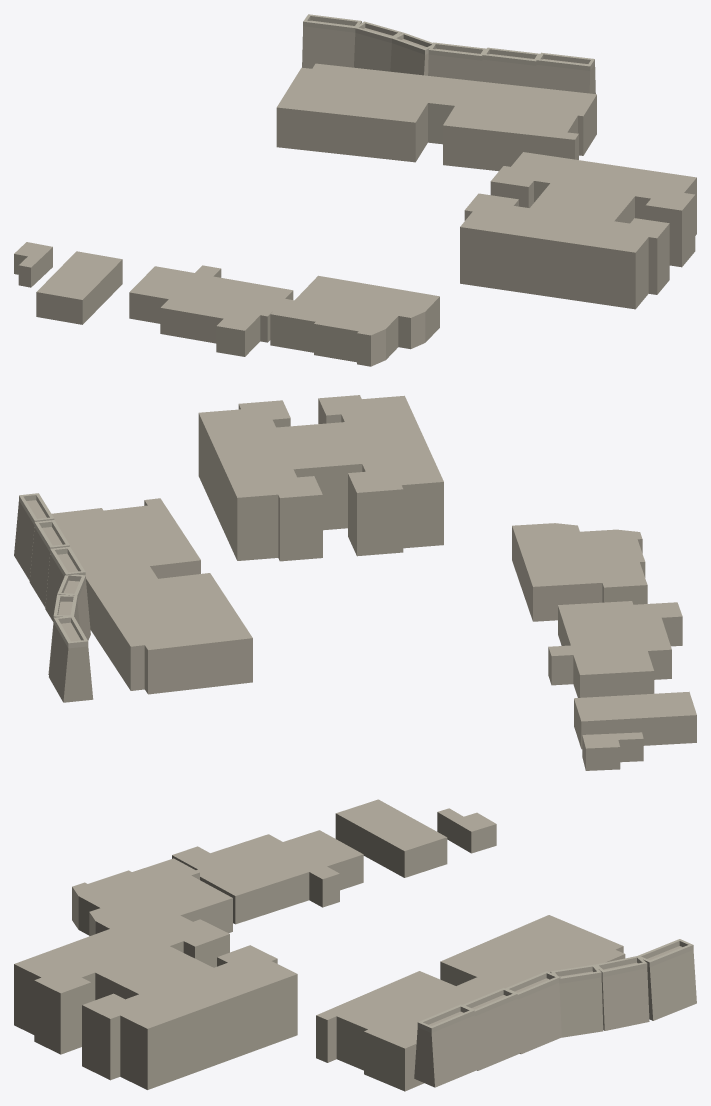
Rendered from bormla_62_31_collision.glb.
3 views of the same model, one above another, from view 1: azimuth 30°, elevation 25°; view 2: azimuth 150°, elevation 25°; view 3: azimuth 270°, elevation 25° (orthographic). The views are drawn at different scales.
Parts seen in each view (by area): view 1: geometry_0; view 2: geometry_0; view 3: geometry_0.
Part boxes in pixels (box(x1,y1,x2,y2)): geometry_0: box(14, 14, 696, 366); geometry_0: box(14, 395, 696, 770); geometry_0: box(14, 799, 696, 1091).
Size of the model in its own units: 147 by 23.47 by 138.
